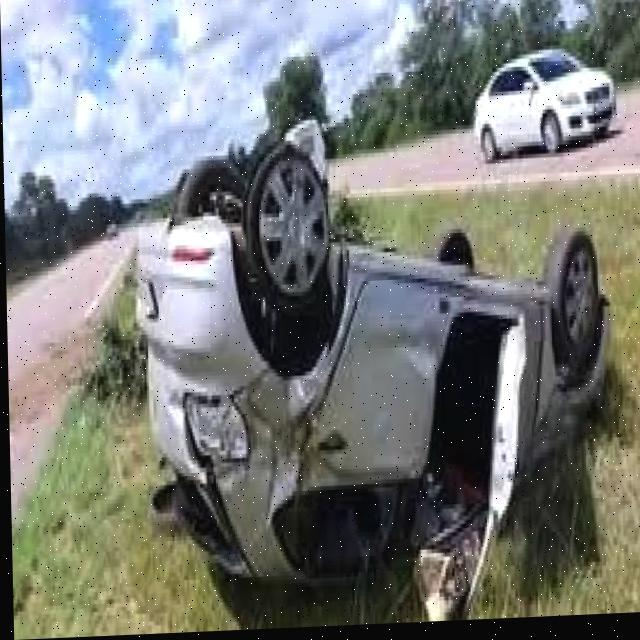single accident: (62, 100, 617, 605)
